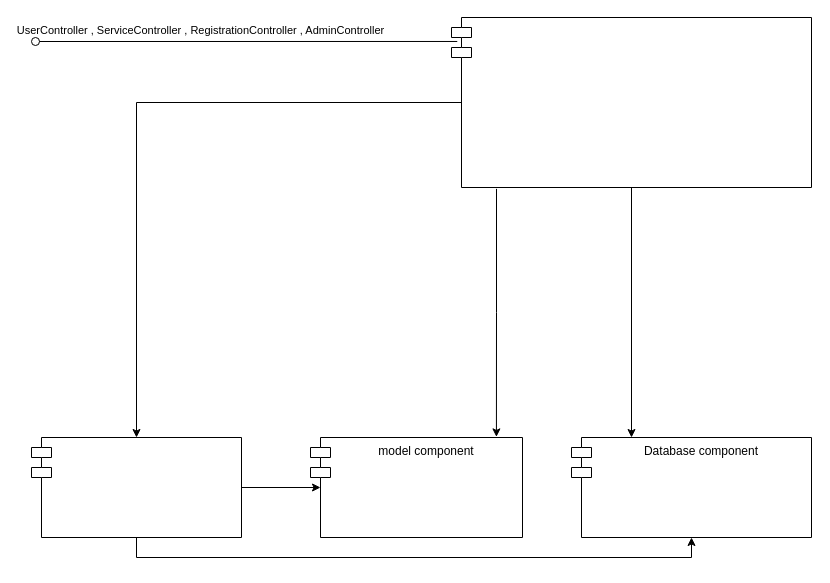
This 830x583 diagram has some shape labels left out. Here are the shapes that lost their labels. From the top down, the centre of each, then its label:
the point at 631,102: APIServices
the point at 136,487: conrtoller component
